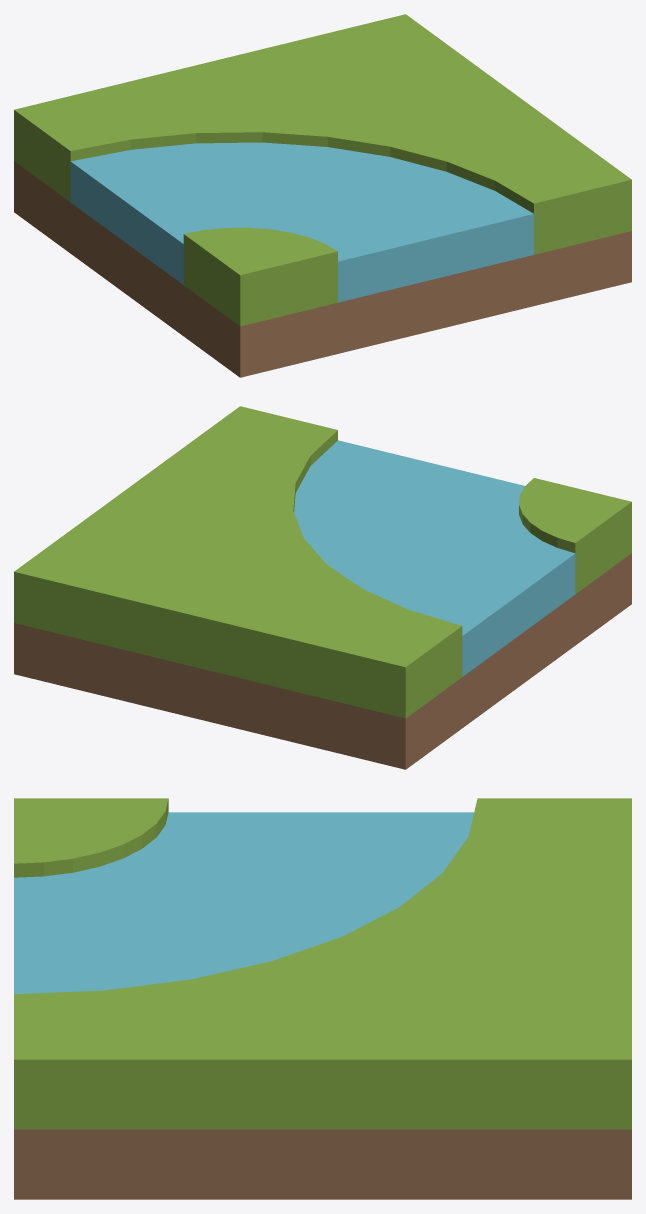
Rendered from river-corner-low.obj.
The picture shows the model from 3 angles, top to bottom: view 1: azimuth 30°, elevation 25°; view 2: azimuth 150°, elevation 25°; view 3: azimuth 270°, elevation 25°; orthographic projection. The views are drawn at different scales.
Visible parts, largest first — view 1: river-corner-low_Cube.203; view 2: river-corner-low_Cube.203; view 3: river-corner-low_Cube.203.
Boxes of the visible parts, bbox=[...] form: river-corner-low_Cube.203: bbox=[14, 14, 631, 377]; river-corner-low_Cube.203: bbox=[14, 406, 631, 769]; river-corner-low_Cube.203: bbox=[14, 798, 631, 1199].
Size of the model in its own units: 8 by 2 by 8.
Materials: 1 (1 with a texture image).
